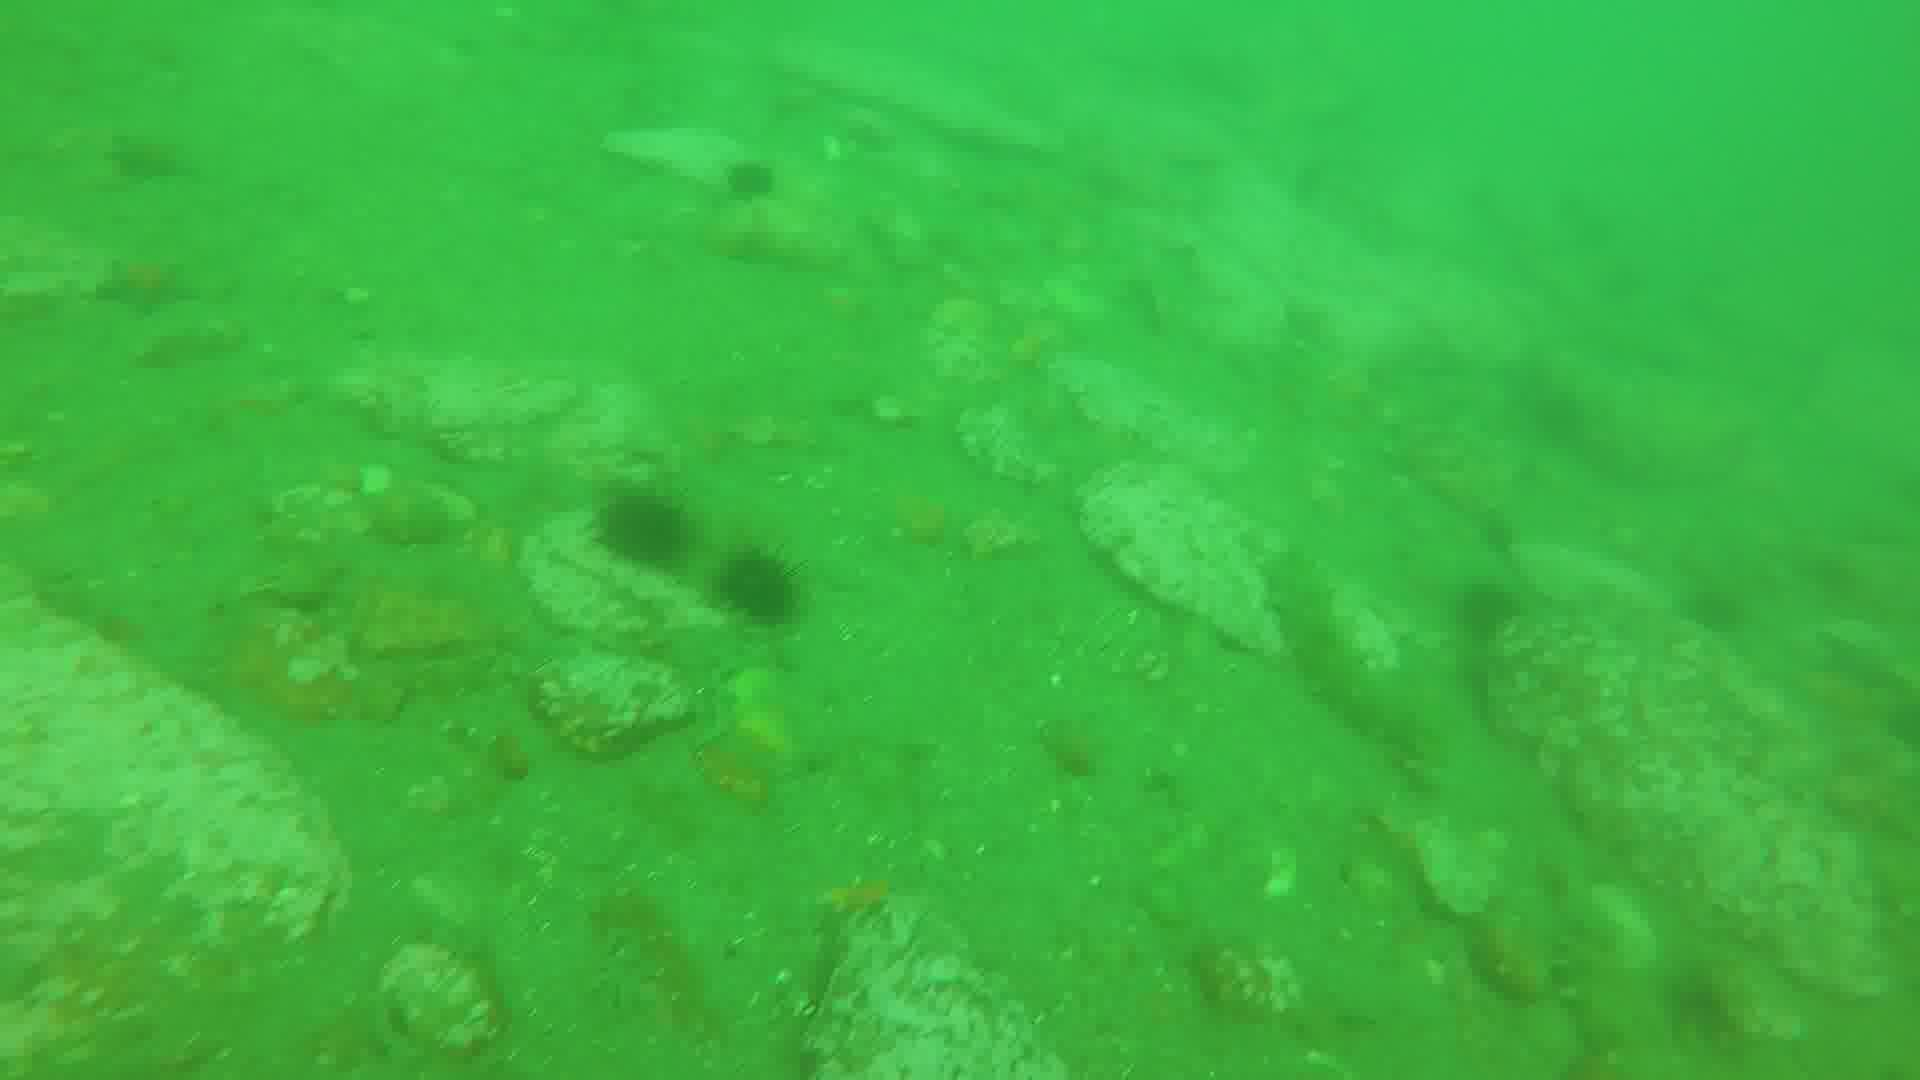echinus: (601, 483, 688, 575), (711, 538, 791, 618), (1691, 585, 1768, 636), (1465, 582, 1527, 632), (725, 158, 773, 204)
holothurian: (1253, 531, 1399, 731)
starfish: (102, 255, 196, 311), (109, 127, 186, 177)
